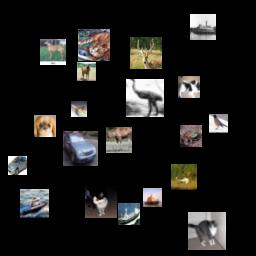airplane: (71, 101, 87, 117)
automobile: (63, 131, 98, 166), (8, 156, 27, 175)
bird: (126, 79, 164, 117), (209, 114, 228, 133)
cat: (188, 212, 226, 250), (78, 29, 110, 61), (85, 186, 117, 218)
deer: (130, 37, 162, 69), (106, 127, 132, 153), (171, 164, 197, 190)
dog: (40, 39, 66, 65), (34, 115, 56, 137), (178, 76, 200, 98)
frog: (180, 125, 202, 147)
ship: (20, 189, 49, 218), (190, 14, 216, 40), (118, 203, 140, 225), (143, 188, 162, 207)
